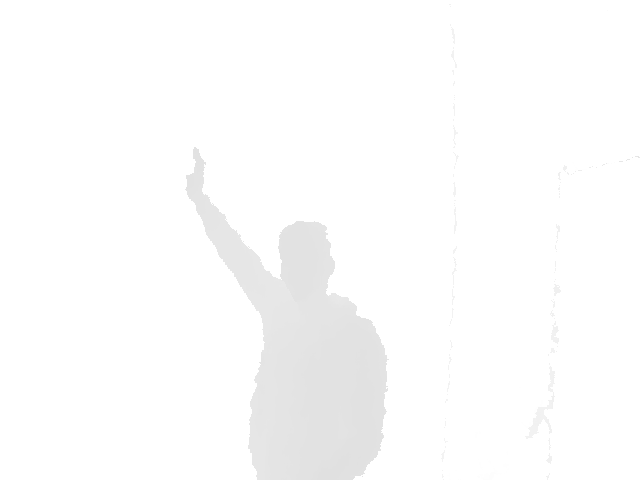hand: (185, 147, 206, 196)
head: (277, 220, 335, 307)
person: (185, 147, 389, 480)
